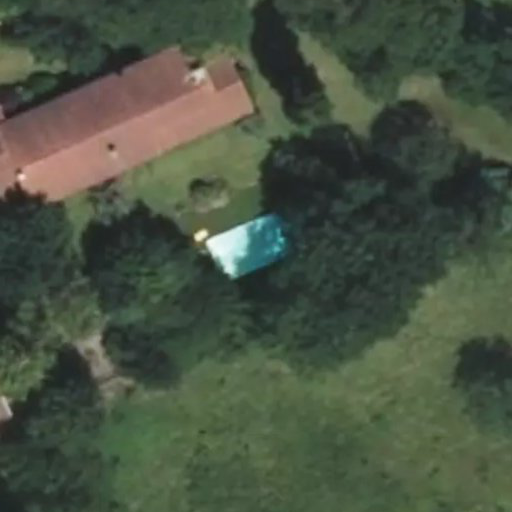pool: (204, 239, 308, 244)
